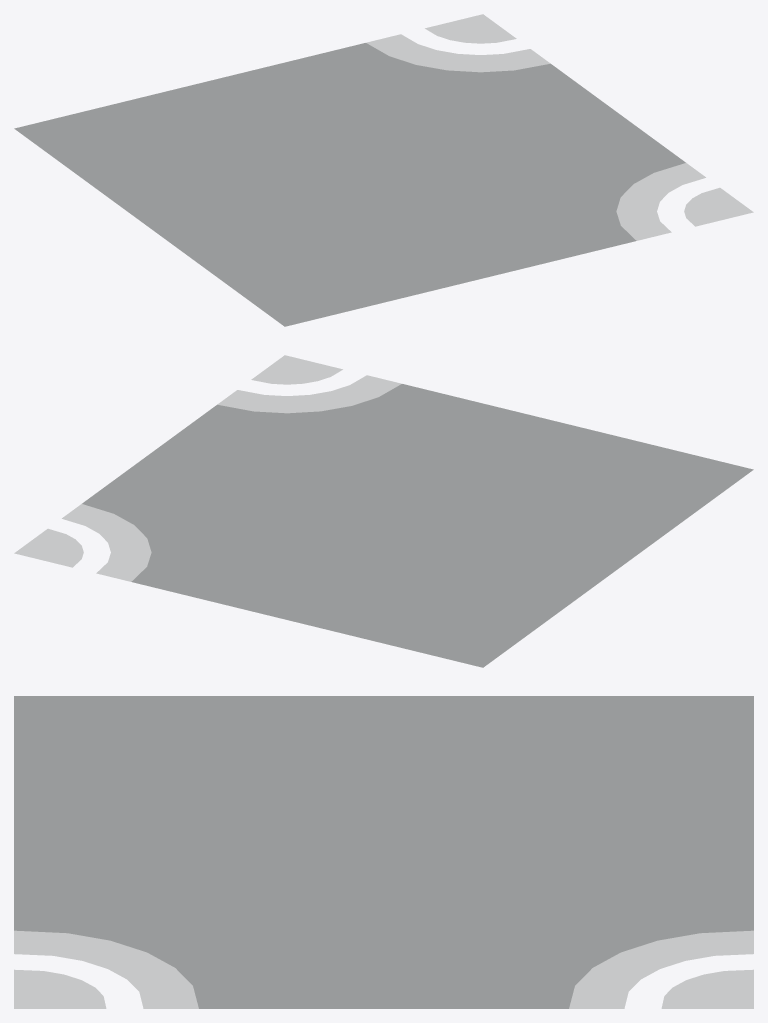
File: Ceiling_type_A_016.glb
The picture shows the model from 3 angles, top to bottom: view 1: azimuth 30°, elevation 25°; view 2: azimuth 150°, elevation 25°; view 3: azimuth 270°, elevation 25°; orthographic projection. The views are drawn at different scales.
Parts seen in each view (by area): view 1: Ceiling_type_A_016; view 2: Ceiling_type_A_016; view 3: Ceiling_type_A_016.
Part boxes in pixels (x1=…): Ceiling_type_A_016: x1=14, y1=14, x2=753, y2=326; Ceiling_type_A_016: x1=14, y1=355, x2=753, y2=667; Ceiling_type_A_016: x1=14, y1=696, x2=753, y2=1008.
Size of the model in its own units: 4 by 0.0571 by 4.
2 materials, 2 textured.
